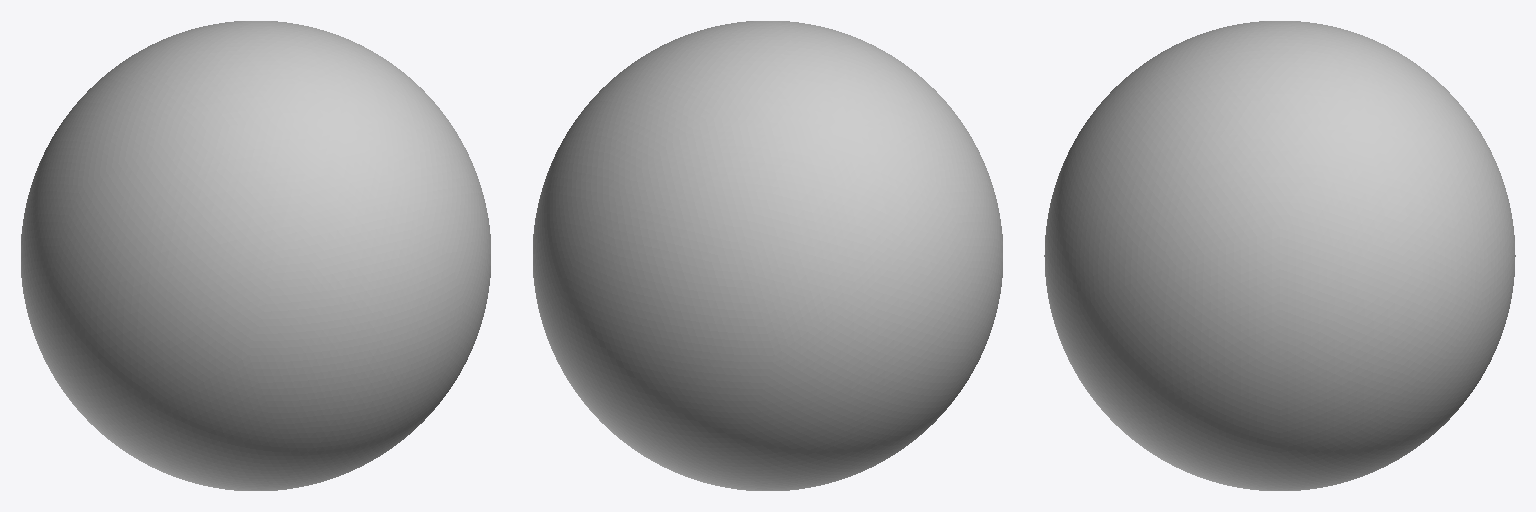
File: sphereNormalized.obj
The picture shows the model from 3 angles: view 1: azimuth 30°, elevation 25°; view 2: azimuth 150°, elevation 25°; view 3: azimuth 270°, elevation 25°; orthographic projection.
Bounding box in the file's own units: 5.77 × 5.77 × 5.77.